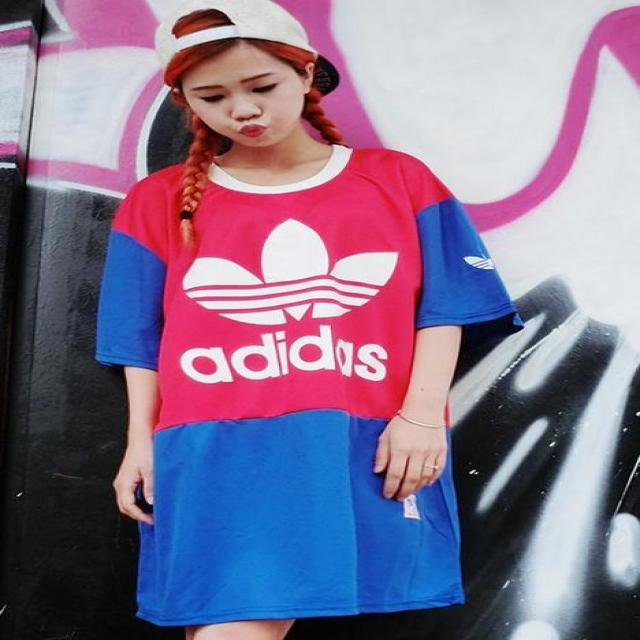short sleeve dress: (100, 149, 521, 616)
